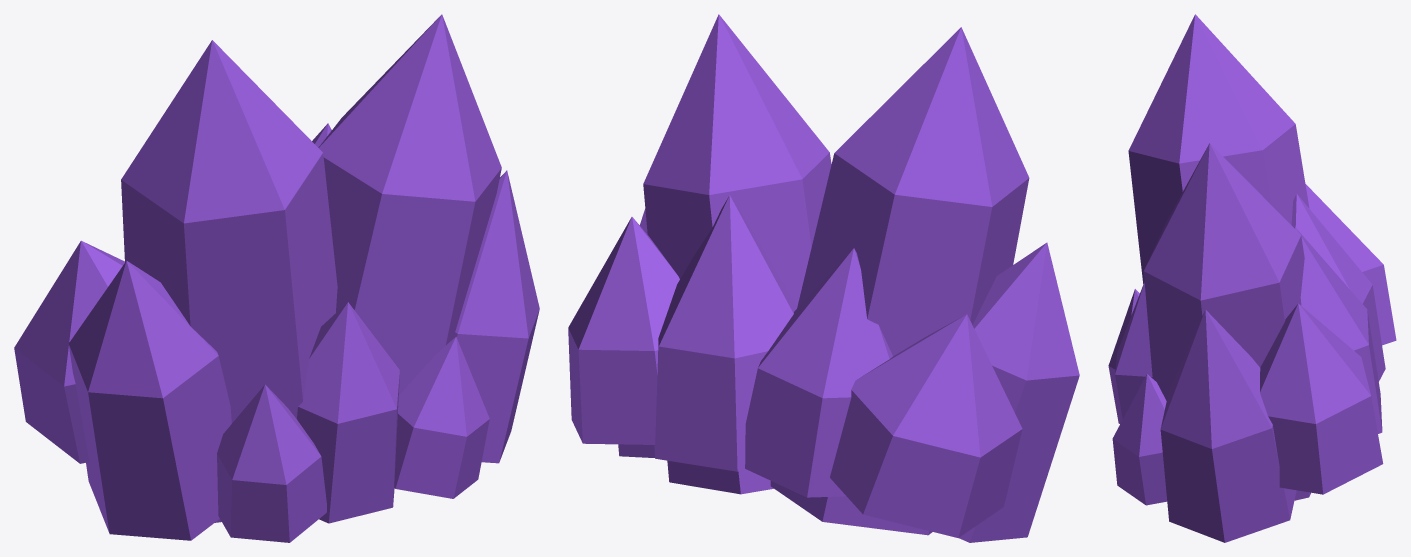
The model's file is Geode_Cluster_D.fbx.
3 renders of one model, left to right at view 1: azimuth 30°, elevation 25°; view 2: azimuth 150°, elevation 25°; view 3: azimuth 270°, elevation 25°, orthographic. The views are drawn at different scales.
Visible parts, largest first — view 1: Crystal1, Crystal2, Crystal3; view 2: Crystal2, Crystal1, Crystal3; view 3: Crystal1, Crystal2, Crystal3.
Part boxes in pixels (box(x1,y1,x2,y2)): Crystal1: box(121, 40, 539, 522); Crystal2: box(14, 14, 501, 523); Crystal3: box(68, 260, 326, 542); Crystal2: box(568, 14, 1022, 537); Crystal1: box(618, 27, 1029, 535); Crystal3: box(745, 242, 1079, 542); Crystal1: box(1112, 14, 1382, 542); Crystal2: box(1115, 143, 1396, 500); Crystal3: box(1108, 194, 1385, 423).
Bounding box in the file's own units: 1.24 × 1.26 × 0.8106.
